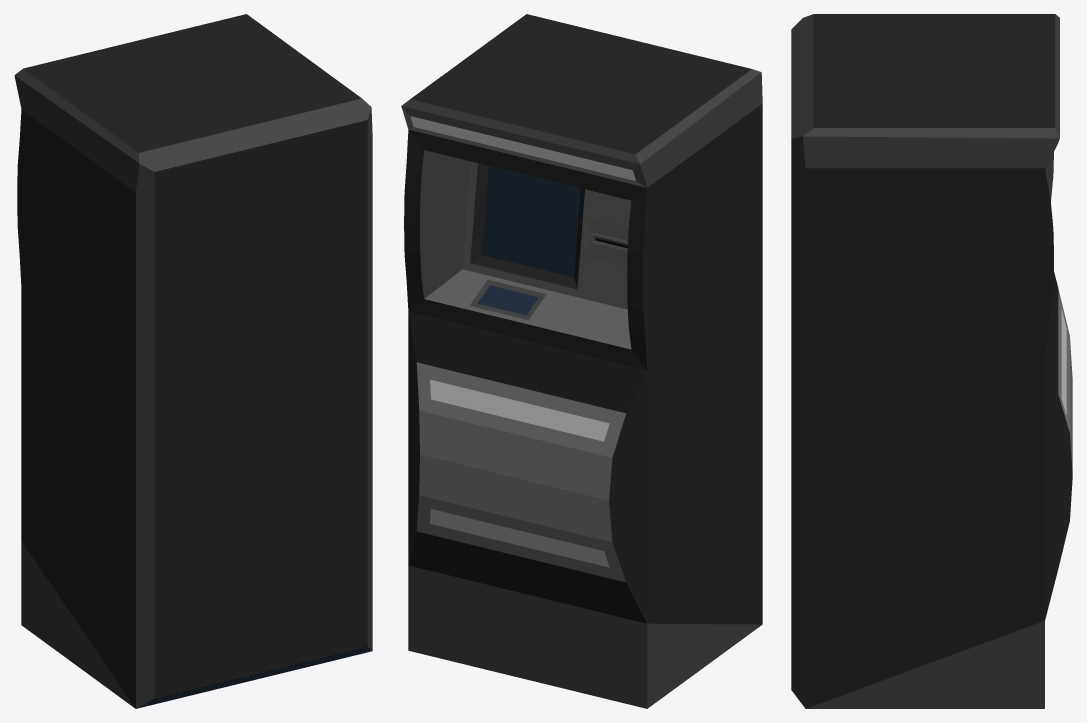
The model's file is ATM.fbx.
3 views of the same model, side by side, from view 1: azimuth 30°, elevation 25°; view 2: azimuth 150°, elevation 25°; view 3: azimuth 270°, elevation 25° (orthographic). The views are drawn at different scales.
Parts seen in each view (by area): view 1: ATM; view 2: ATM; view 3: ATM.
Boxes of the visible parts, left/top/right/bottom form: ATM: left=14, top=14, right=372, bottom=708; ATM: left=401, top=14, right=762, bottom=708; ATM: left=791, top=14, right=1072, bottom=708.
Bounding box in the file's own units: 14.9 × 33.17 × 14.65.
